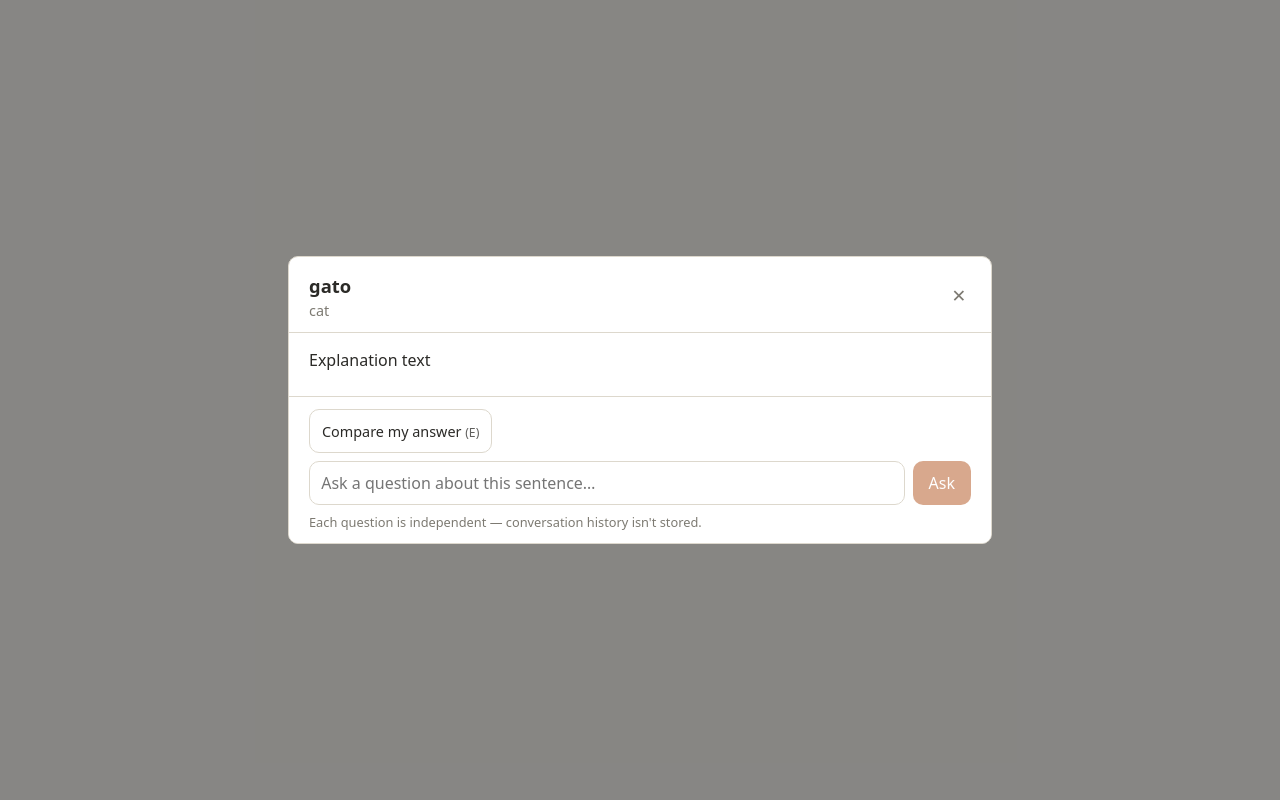
ExplanationModal offline errors › shows the unavailable message when a follow-up fails offline
This screenshot has width=1280, height=800.
Check: the text "Explanation text" is shown, box [309,349,430,371]
Type "why?" into the field.
click(607, 483); type("why?")  # box [309,461,905,505]
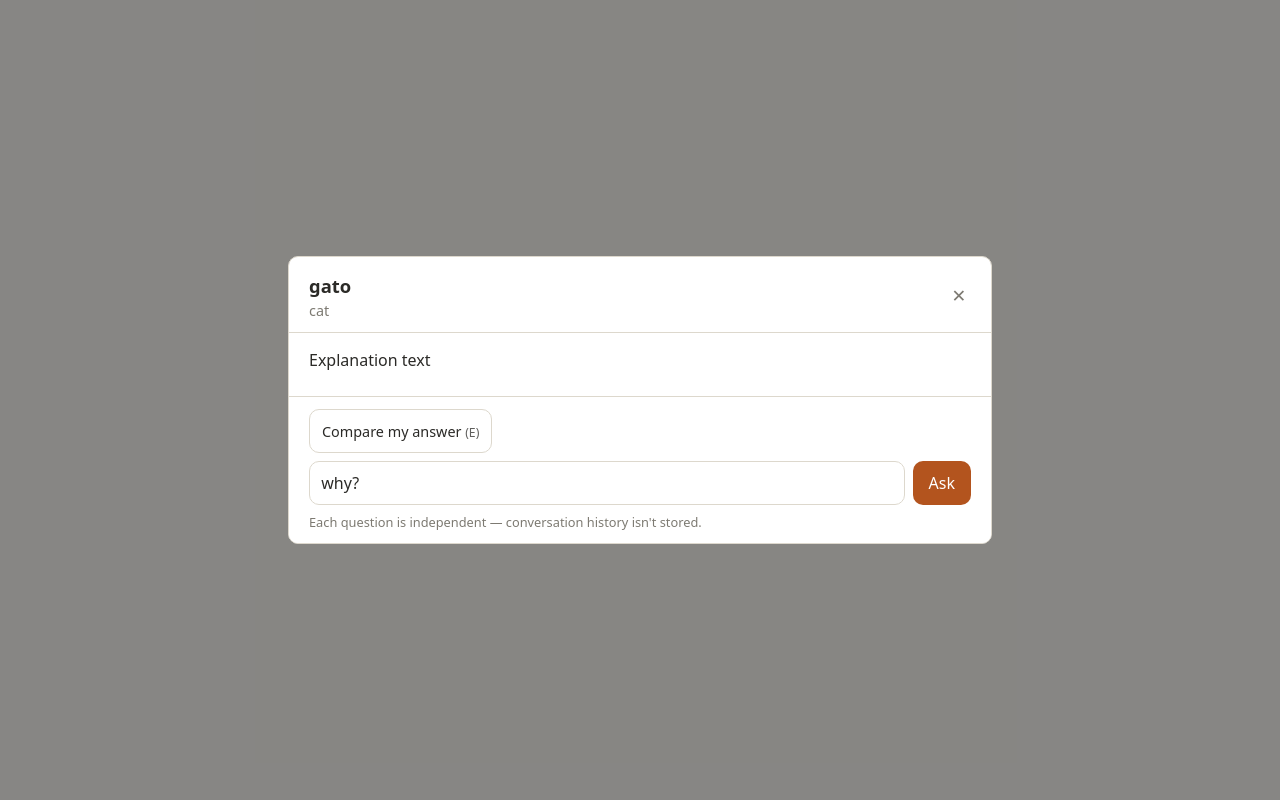
Submit the form, box [309,461,971,505]
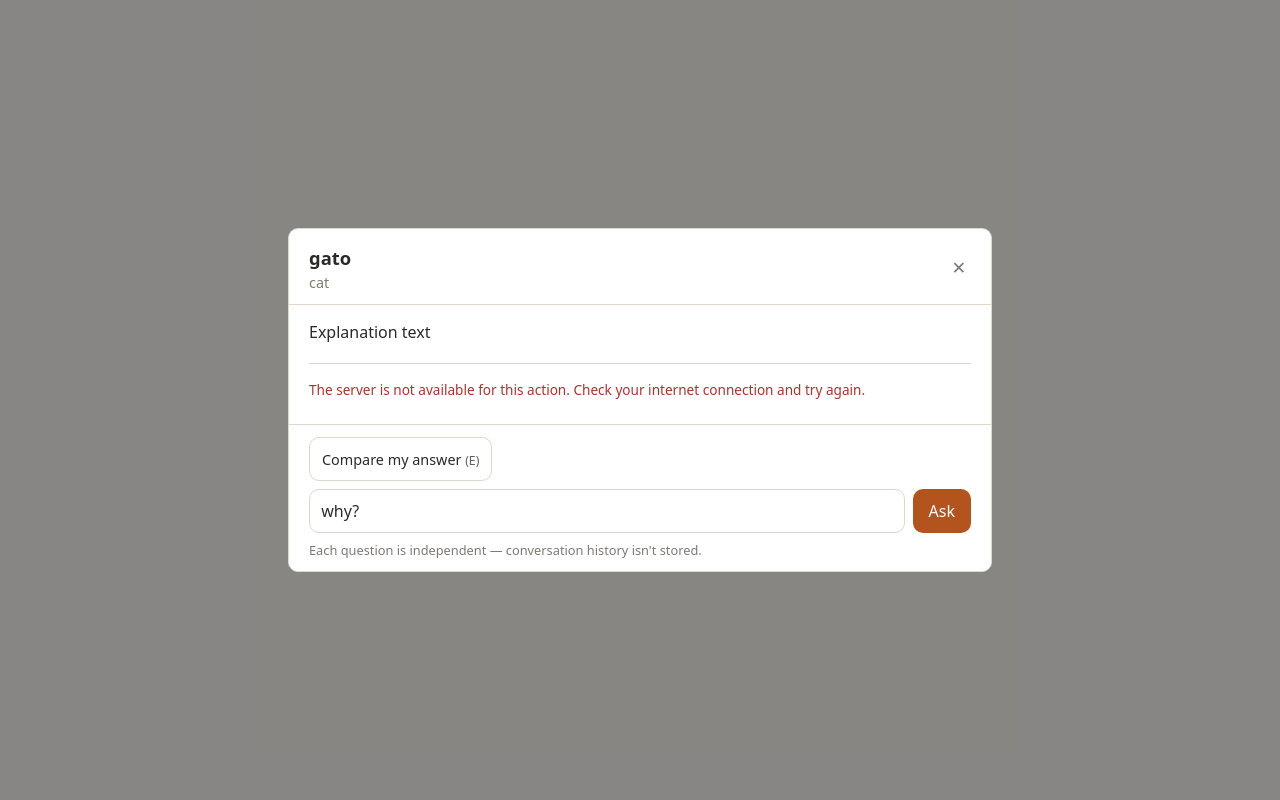
Check: the text "The server is not available for this action. Check your internet connection and try again." is shown, box [309,380,865,399]
